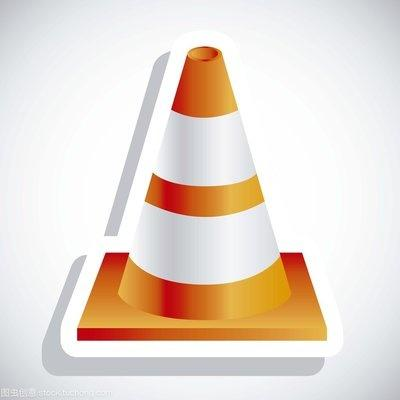cone_barrel: (111, 46, 300, 327)
